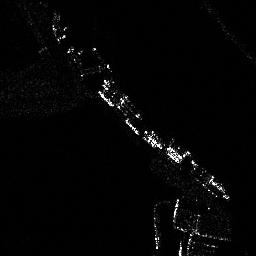ship: (151, 204, 162, 250)
